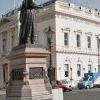Statue: (10, 0, 53, 54)
